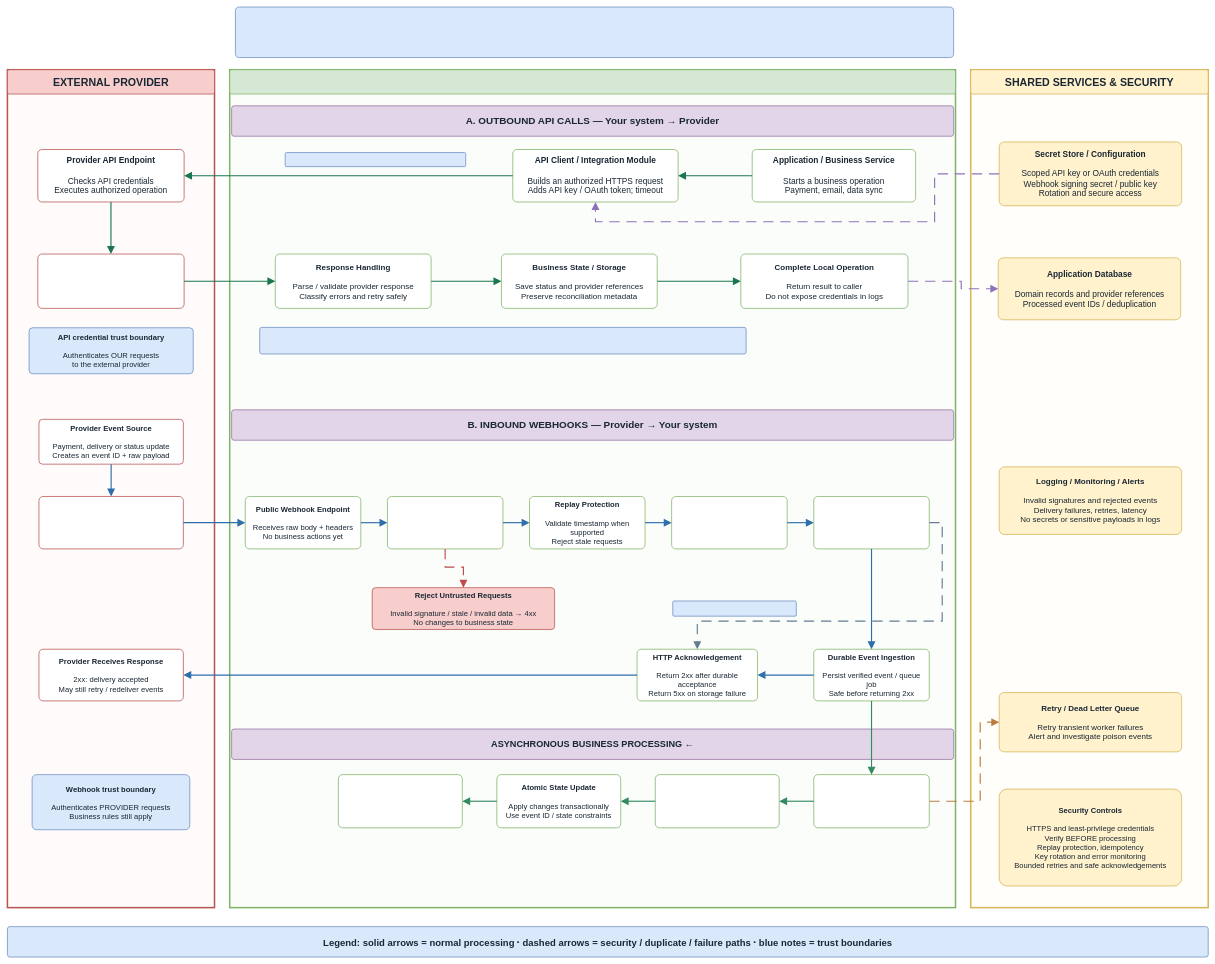
This 1215x964 diagram has some shape labels left out. Here are the shapes that lost their labels. From the top down, the centre of each, then its label:
pixel 594 32: SECURE EXTERNAL INTEGRATION PATTERN Outbound API calls + Inbound Webhooks
pixel 592 81: YOUR SYSTEM
pixel 375 159: HTTPS request + API credentials
pixel 110 281: Provider API Response 2xx / 4xx / 429 / 5xx Result, error, request ID
pixel 502 340: Outgoing API credentials do NOT authenticate incoming webhooks.
pixel 111 522: Webhook Sender Signs payload using its key Sends HTTPS POST + signature headers
pixel 445 522: Signature Verification HMAC secret or public key Reject untrusted requests
pixel 729 522: Payload Validation Parse only after trust checks Validate schema and event type
pixel 871 522: Idempotency Check Atomically check unique event ID Duplicate → skip processing
pixel 734 608: Already accepted → 2xx
pixel 400 801: Completion / Audit Mark event processed Log safe metadata / status
pixel 717 801: Business Rules Validate state transitions Avoid double side effects
pixel 871 801: Queue Worker Consumes accepted event Retries transient errors safely
